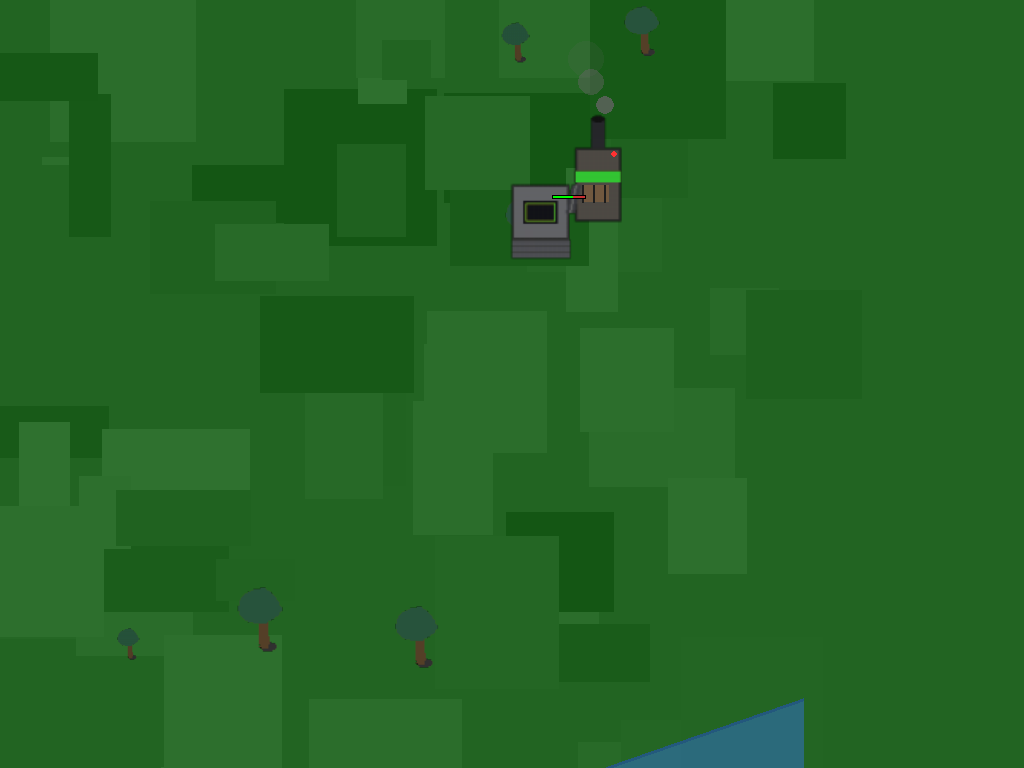Lake: (393, 692, 804, 768)
MiningRig: (505, 131, 631, 257)
